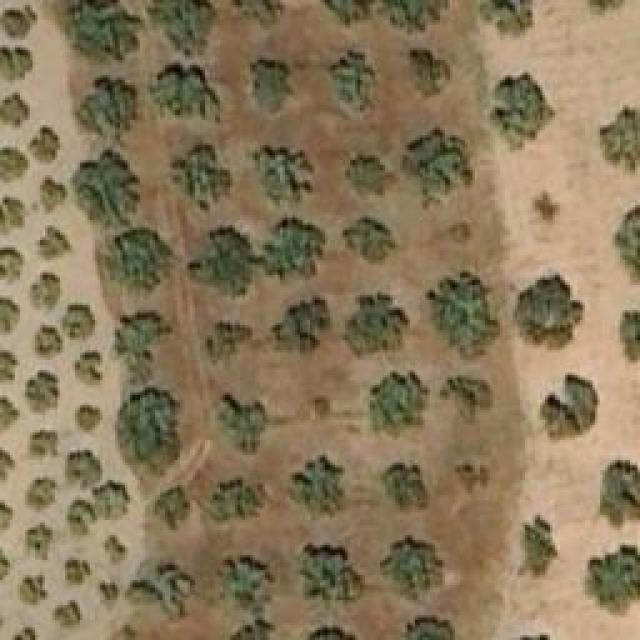Tree: (428, 272, 501, 360), (118, 387, 183, 475), (188, 222, 258, 300), (513, 278, 588, 348), (73, 155, 143, 230), (65, 0, 140, 62), (342, 290, 410, 358), (405, 133, 468, 203), (148, 0, 223, 58), (288, 452, 351, 520), (370, 370, 430, 440), (295, 543, 365, 603), (380, 535, 443, 600), (263, 218, 328, 281), (270, 295, 333, 360), (112, 230, 180, 290), (493, 72, 553, 140), (152, 63, 220, 123), (70, 78, 138, 138), (542, 372, 600, 440), (180, 140, 233, 213), (215, 555, 276, 615), (250, 145, 310, 205), (587, 545, 640, 612), (218, 390, 271, 455), (595, 458, 640, 531), (133, 557, 188, 615), (210, 473, 265, 526), (597, 107, 640, 174), (438, 373, 493, 423), (518, 512, 558, 580), (380, 463, 433, 513), (330, 55, 373, 113), (377, 0, 452, 32), (343, 218, 396, 263), (612, 203, 640, 288), (205, 322, 253, 370), (345, 155, 395, 198), (20, 370, 63, 418), (120, 307, 173, 345), (478, 0, 533, 35), (408, 50, 448, 93), (318, 0, 378, 28), (250, 57, 293, 95), (65, 450, 103, 493), (92, 480, 130, 520), (155, 485, 190, 528), (60, 305, 98, 343), (620, 300, 640, 368), (28, 127, 63, 165), (35, 228, 73, 261), (233, 0, 283, 25), (3, 5, 36, 40), (455, 460, 490, 493), (405, 617, 455, 640), (227, 617, 277, 640), (0, 90, 30, 128), (0, 147, 30, 185), (68, 497, 98, 535), (0, 47, 32, 82), (300, 625, 373, 640), (32, 272, 60, 310), (33, 325, 63, 360), (25, 478, 55, 513), (73, 353, 103, 388), (530, 190, 561, 223), (28, 522, 53, 560), (0, 247, 25, 285), (37, 178, 65, 211), (73, 405, 103, 435), (28, 430, 58, 460), (53, 600, 83, 628), (103, 533, 128, 566), (583, 0, 628, 18), (20, 577, 48, 605), (0, 298, 20, 333), (0, 398, 20, 433), (0, 350, 20, 383), (0, 197, 22, 227), (65, 560, 93, 583), (0, 447, 15, 485), (100, 582, 118, 600)
